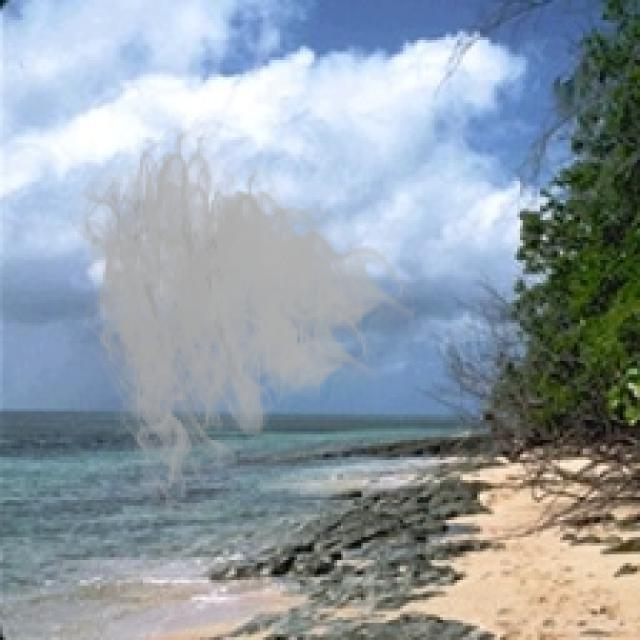smoke: (60, 114, 414, 526)
